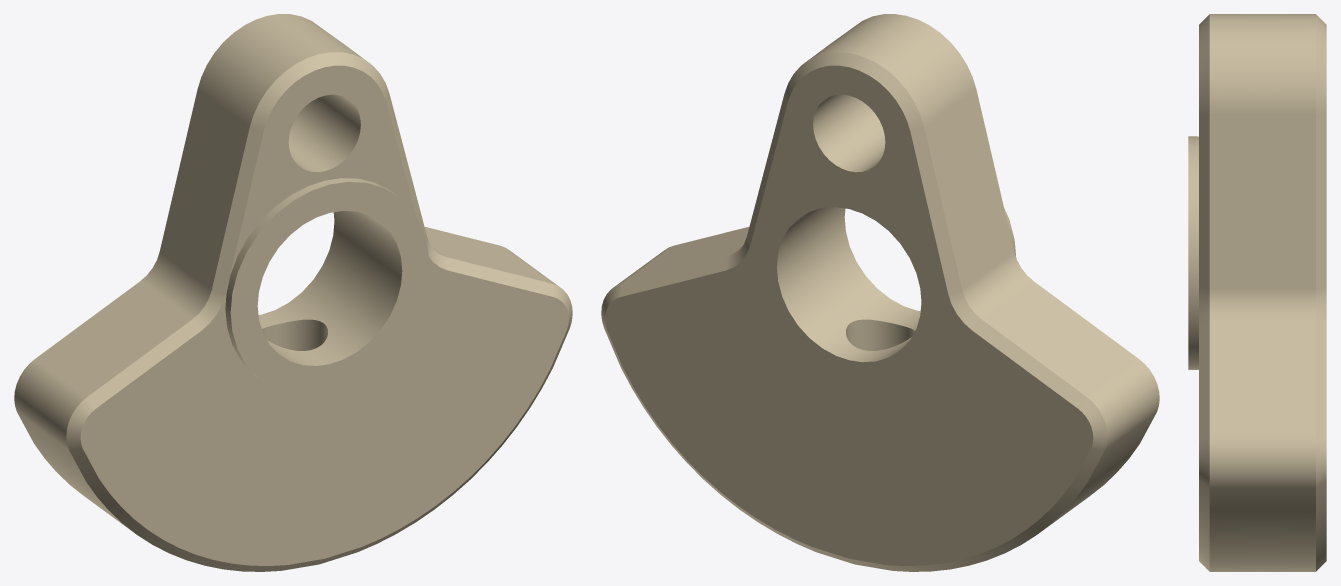
The model's file is Kurbel.glb.
3 views of the same model, side by side, from view 1: azimuth 30°, elevation 25°; view 2: azimuth 150°, elevation 25°; view 3: azimuth 270°, elevation 25° (orthographic).
Parts seen in each view (by area): view 1: Body1; view 2: Body1; view 3: Body1.
Part boxes in pixels (x1=…): Body1: x1=14, y1=14, x2=572, y2=571; Body1: x1=601, y1=14, x2=1159, y2=571; Body1: x1=1188, y1=14, x2=1326, y2=571.
Bounding box in the file's own units: 0.028 × 0.027 × 0.0065.
